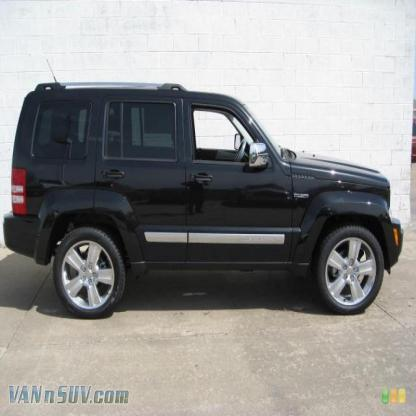Vehicle: (2, 78, 405, 322)
